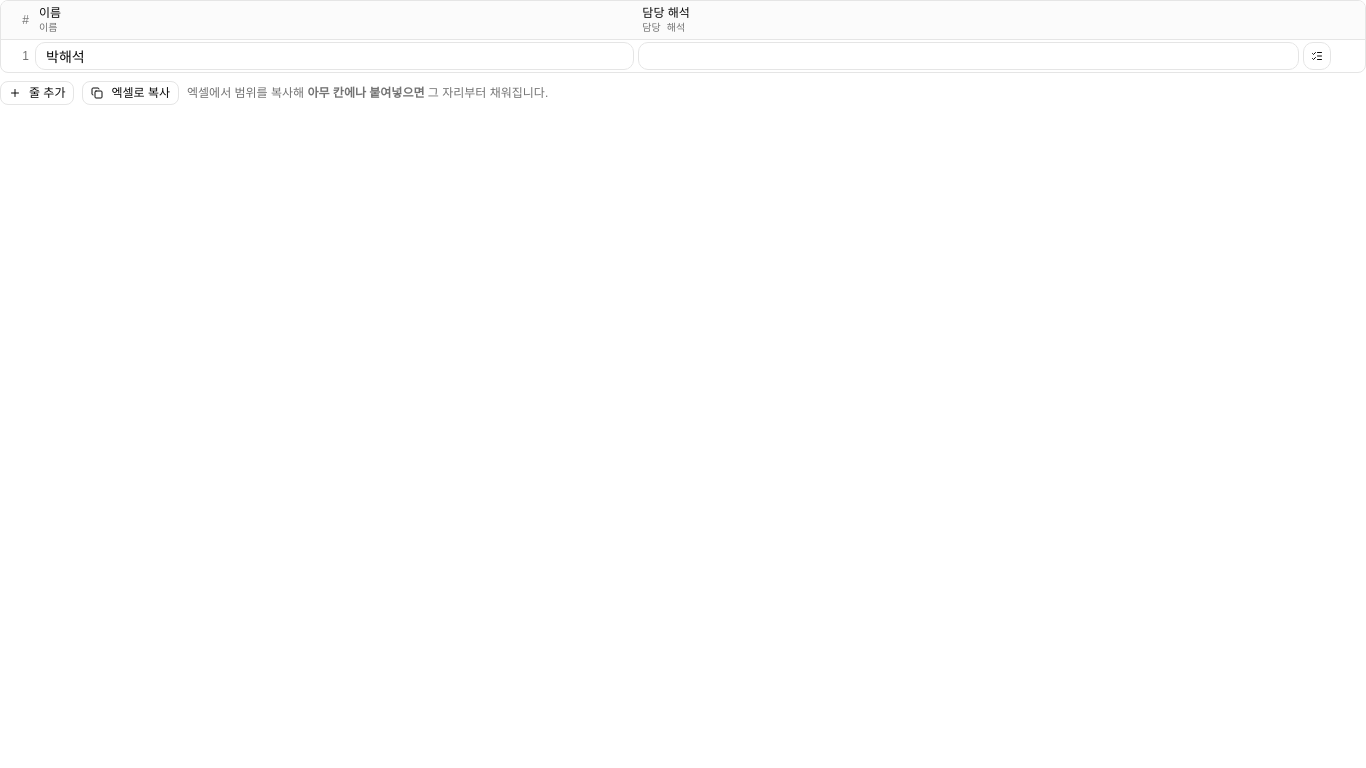
PasteGrid — 여럿 고르는 칸 › 여러 개를 담는다 — 칸에는 정의된 순서로 이어 적힌다
Click the button named "1번 줄 담당 해석 고르기".
click(1317, 56)  # box top-left (1303, 42), bottom-right (1331, 70)
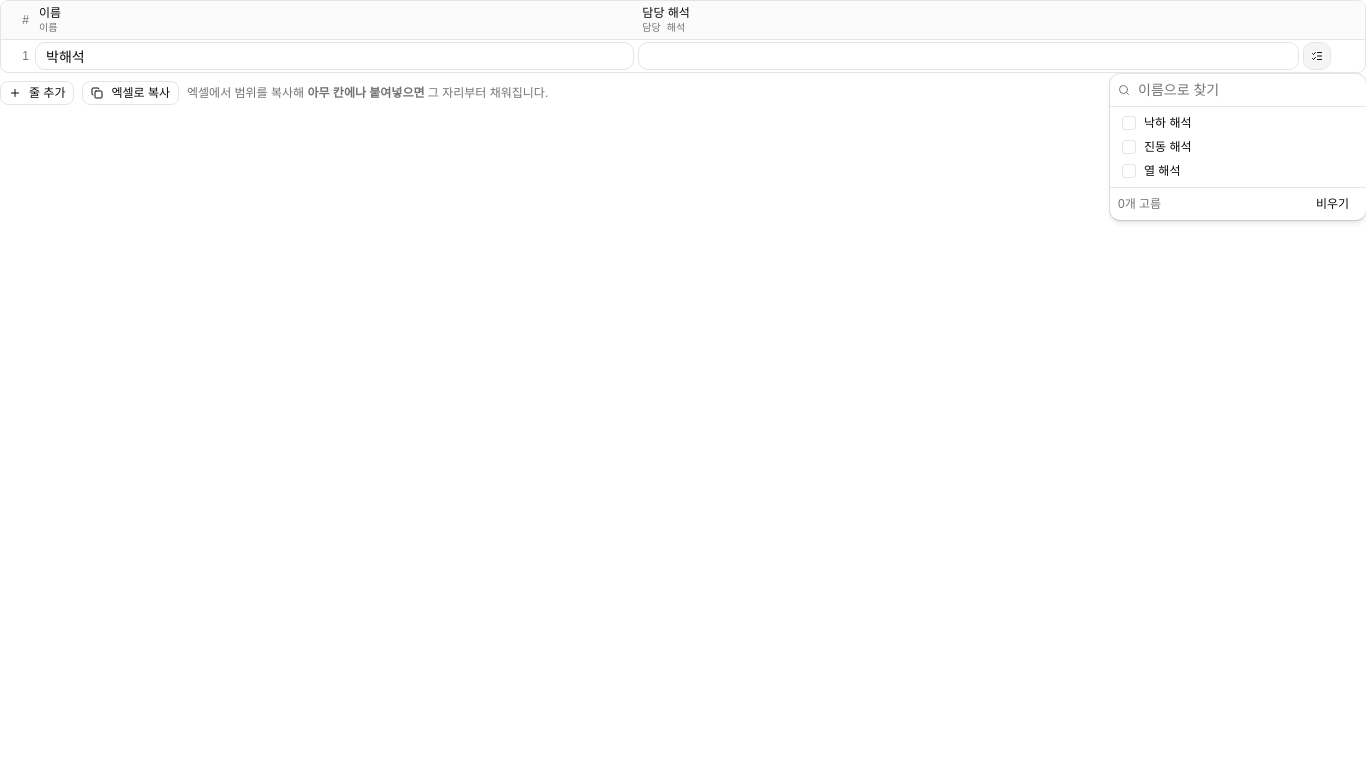
# 정의 순서로 담는다 — 고른 순서대로 두면 같은 줄이 사람마다 다르게 보인다.
Click the button "열 해석".
click(1238, 171)  # box top-left (1114, 159), bottom-right (1362, 183)
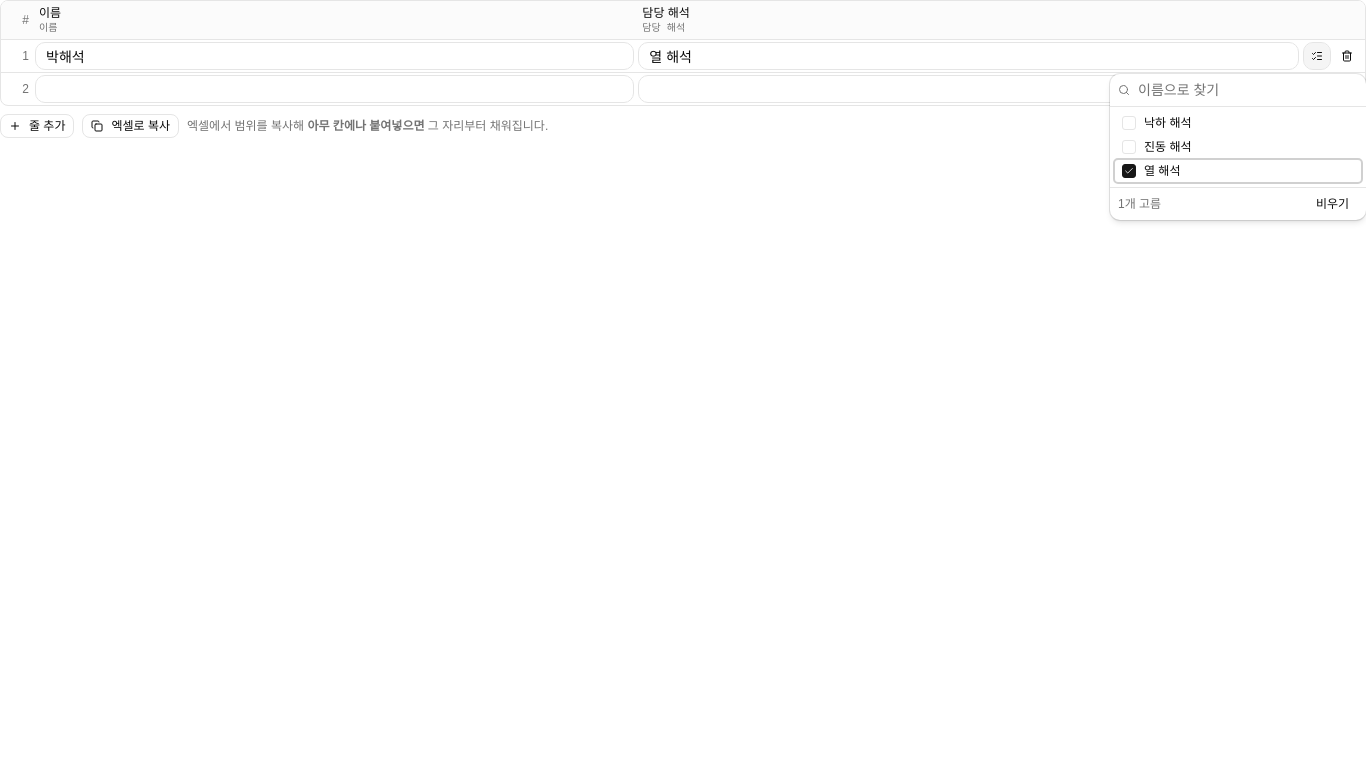
Click the button "낙하 해석".
click(1238, 123)  # box top-left (1114, 111), bottom-right (1362, 135)
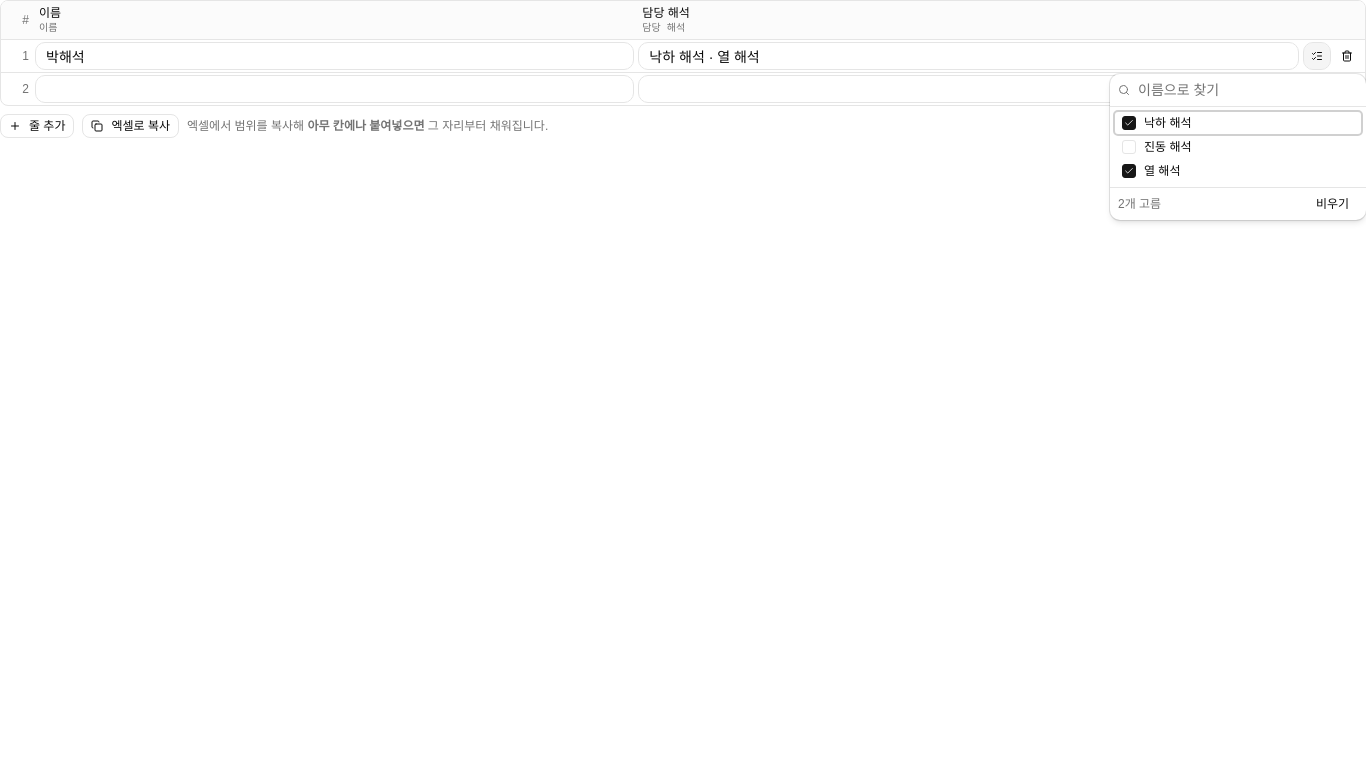
Expected: the field named "1번 줄 담당 해석" holds "낙하 해석 · 열 해석", top-left (638, 42), bottom-right (1299, 70)
Expected: the text "2개 고름" is shown, top-left (1118, 196), bottom-right (1161, 212)
